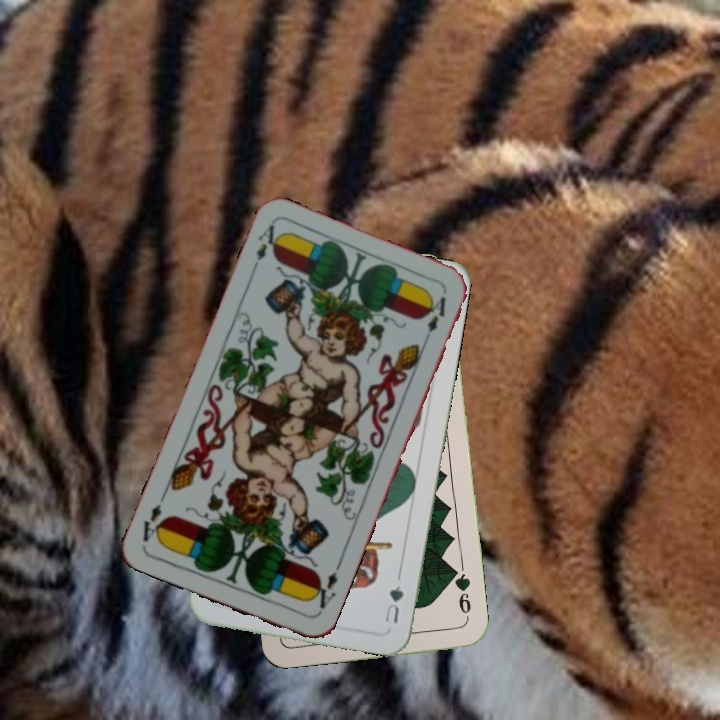EA: (247, 220, 284, 276), (306, 567, 340, 616)
G9: (449, 565, 474, 624)
GU: (380, 581, 406, 626)
